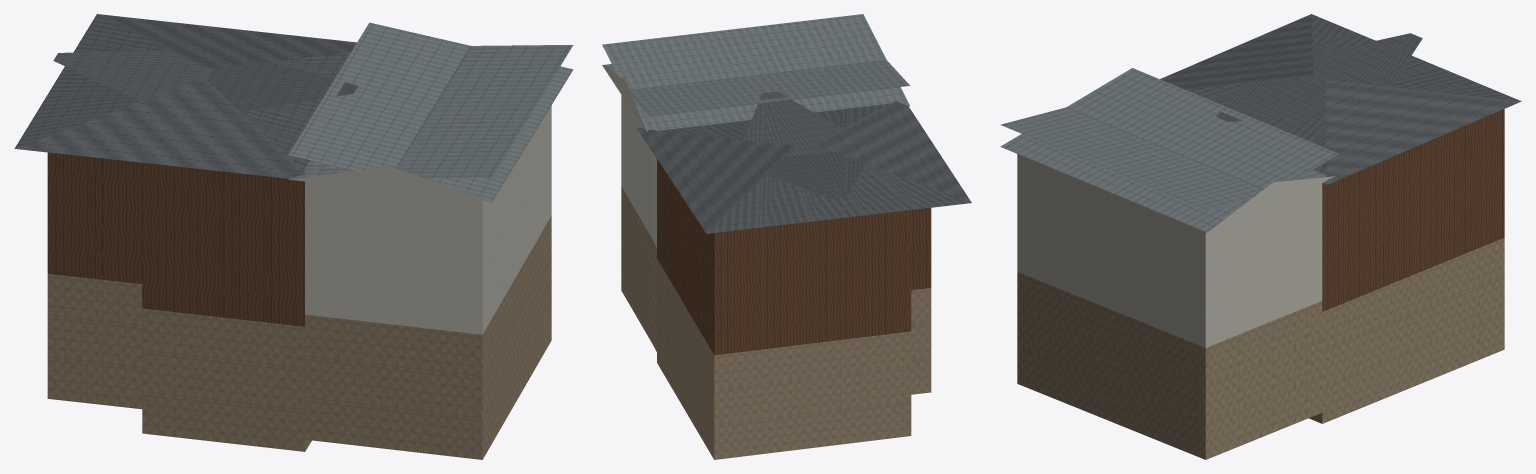
Rendered from bld_c23_16_572.gltf.
3 views of the same model, side by side, from view 1: azimuth 30°, elevation 25°; view 2: azimuth 150°, elevation 25°; view 3: azimuth 270°, elevation 25° (orthographic). The views are drawn at different scales.
Visible parts, largest first — view 1: bld_c23_16_572; view 2: bld_c23_16_572; view 3: bld_c23_16_572.
Part boxes in pixels (x1=…): bld_c23_16_572: x1=14, y1=14, x2=573, y2=459; bld_c23_16_572: x1=602, y1=14, x2=971, y2=459; bld_c23_16_572: x1=1000, y1=14, x2=1521, y2=459.
Bounding box in the file's own units: 21.37 × 12.3 × 21.54.
6 materials, 6 textured.
